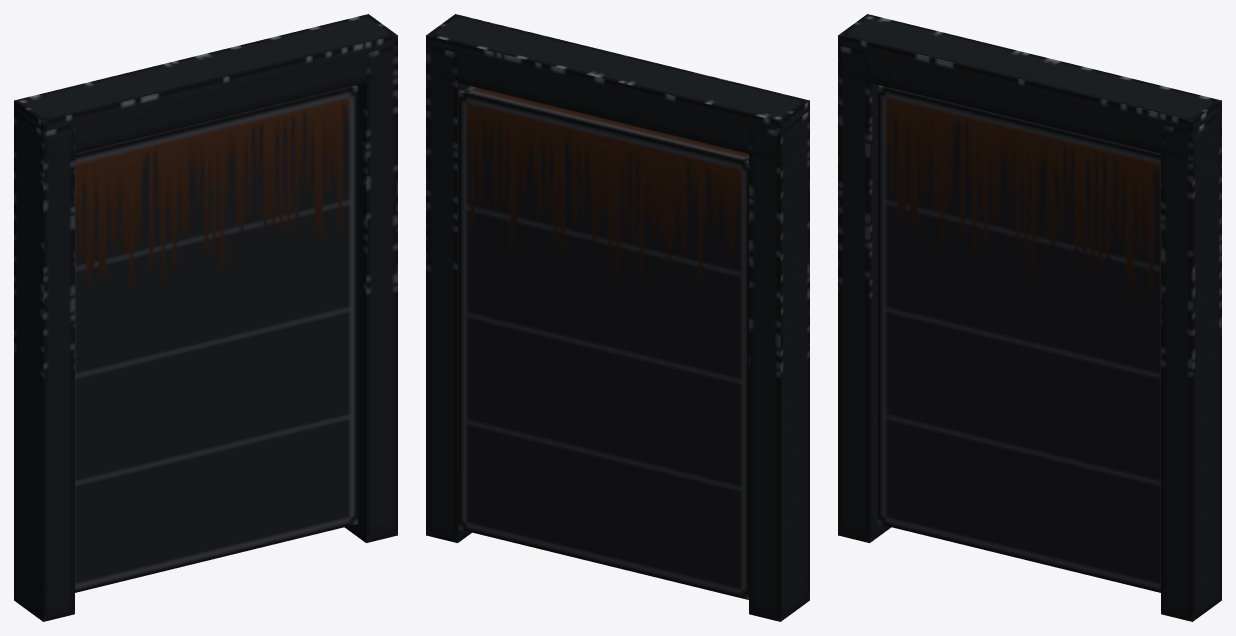
The model's file is GateSlab.obj.
3 renders of one model, left to right at view 1: azimuth 30°, elevation 25°; view 2: azimuth 150°, elevation 25°; view 3: azimuth 330°, elevation 25°, orthographic.
Parts seen in each view (by area): view 1: GateSlab; view 2: GateSlab; view 3: GateSlab.
Boxes of the visible parts, bbox=[...] form: GateSlab: bbox=[14, 14, 397, 621]; GateSlab: bbox=[426, 14, 809, 621]; GateSlab: bbox=[838, 14, 1221, 621].
Bounding box in the file's own units: 5.6 × 7.55 × 0.8.
1 material, 1 textured.
